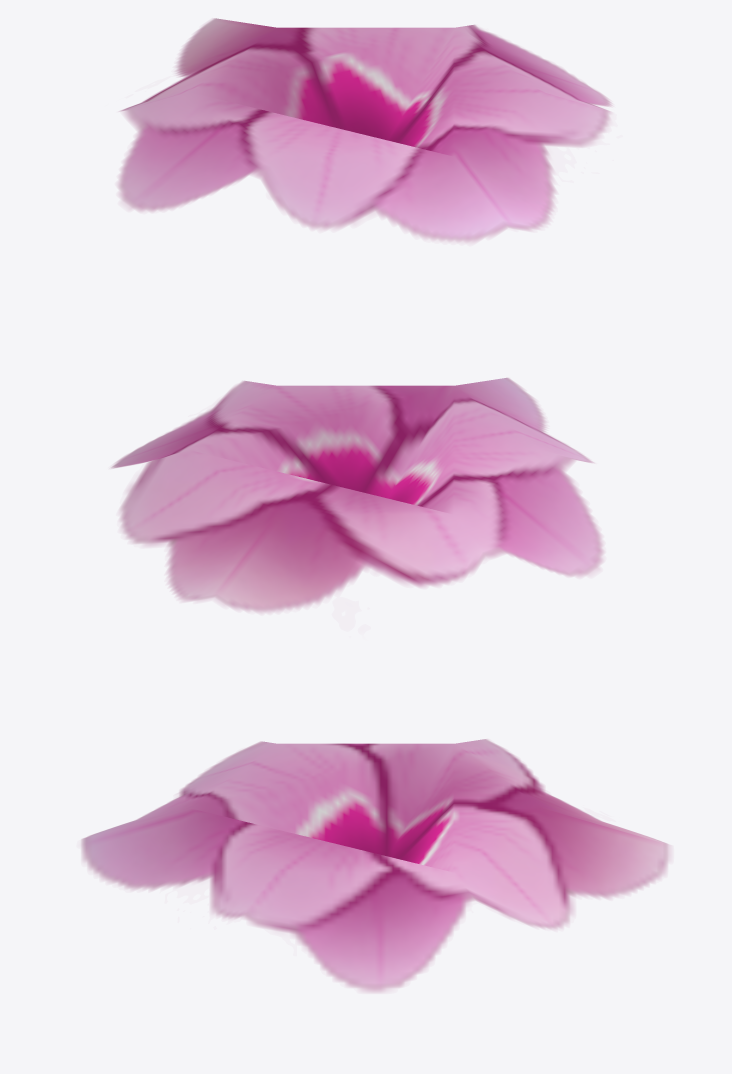
The model's file is flower3.glb.
The picture shows the model from 3 angles, top to bottom: view 1: azimuth 30°, elevation 25°; view 2: azimuth 150°, elevation 25°; view 3: azimuth 270°, elevation 25°; orthographic projection.
Parts seen in each view (by area): view 1: flower3; view 2: flower3; view 3: flower3.
Boxes of the visible parts, bbox=[...] form: flower3: bbox=[118, 18, 611, 242]; flower3: bbox=[111, 377, 603, 612]; flower3: bbox=[81, 739, 669, 992].
Size of the model in its own units: 0.3192 by 0.0513 by 0.3192.
Materials: 1 (1 with a texture image).
